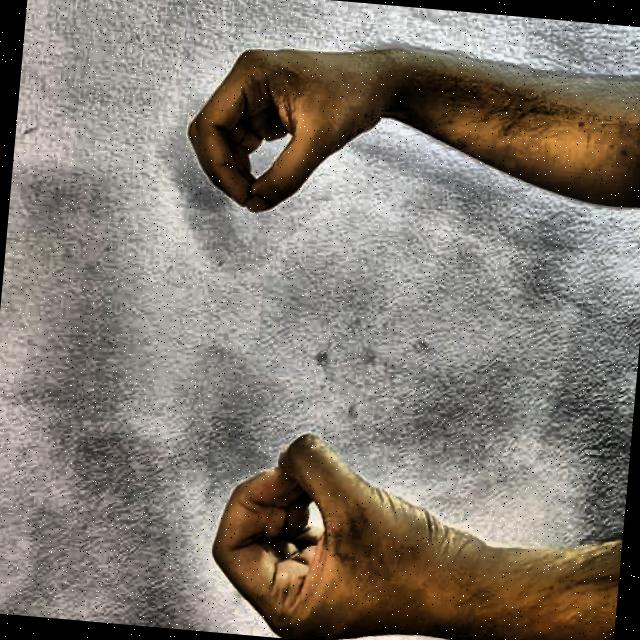Bisharga: (113, 9, 523, 640)
